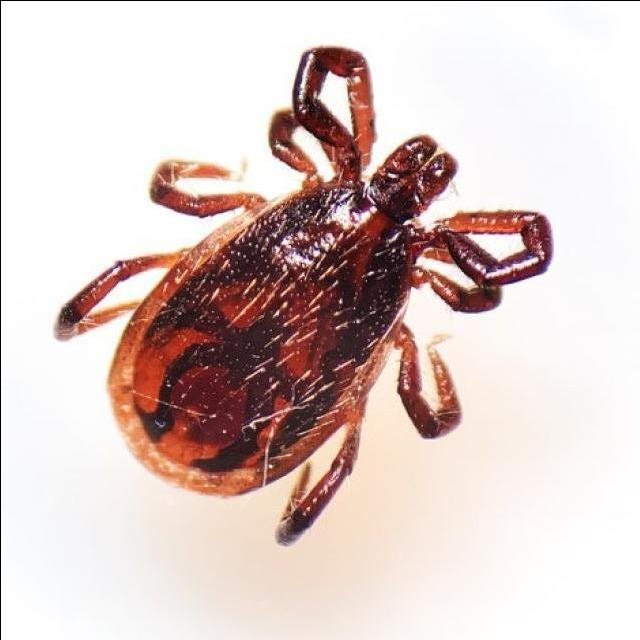Ixodes Ricinus-M: (52, 46, 553, 547)
